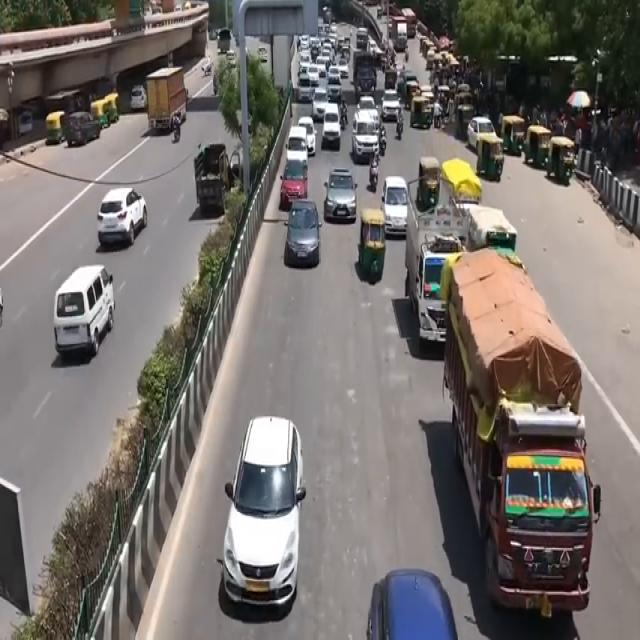TRUCK: (444, 252, 590, 624), (145, 67, 186, 132)
